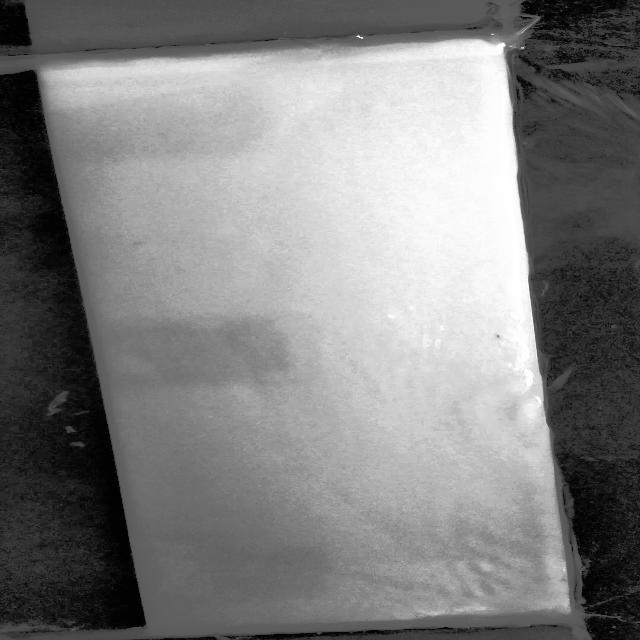shrimp: (488, 331, 507, 343)
